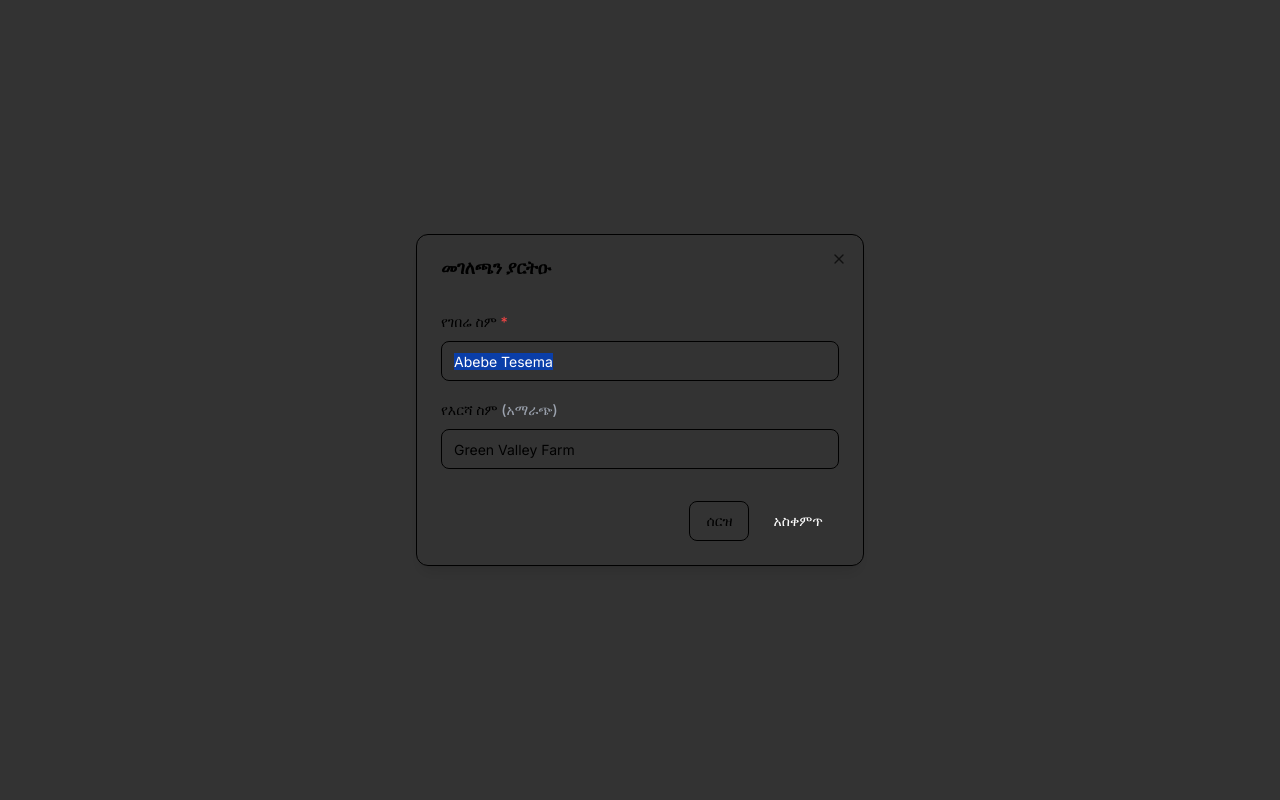
Test: EditProfileModal › shows loading state during save
Click the button "አስቀምጥ" at (798, 521), box [758,501,839,541]
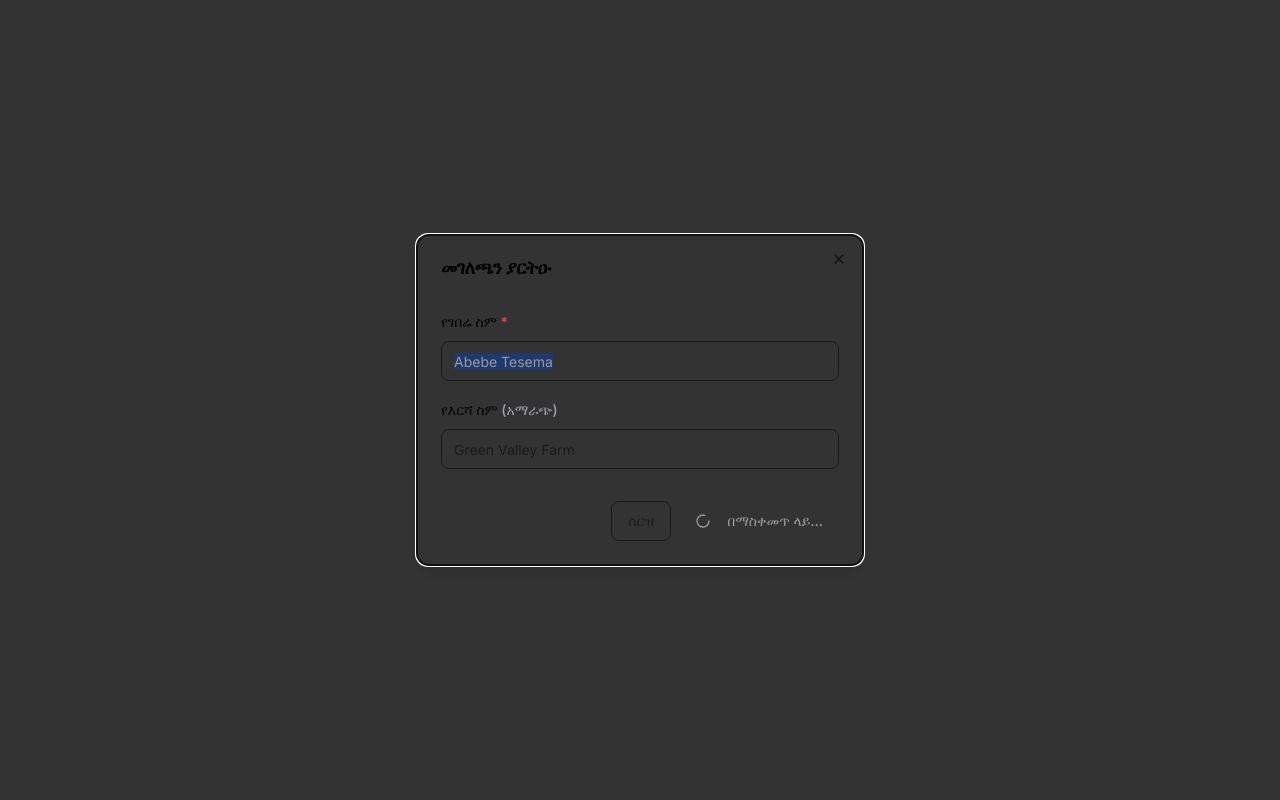
expect the button "በማስቀመጥ ላይ..." is shown: met, box [679,501,839,541]
expect the field with placeholder "ስም እና የአባት ስም" is disabled: met, box [441,341,839,381]
